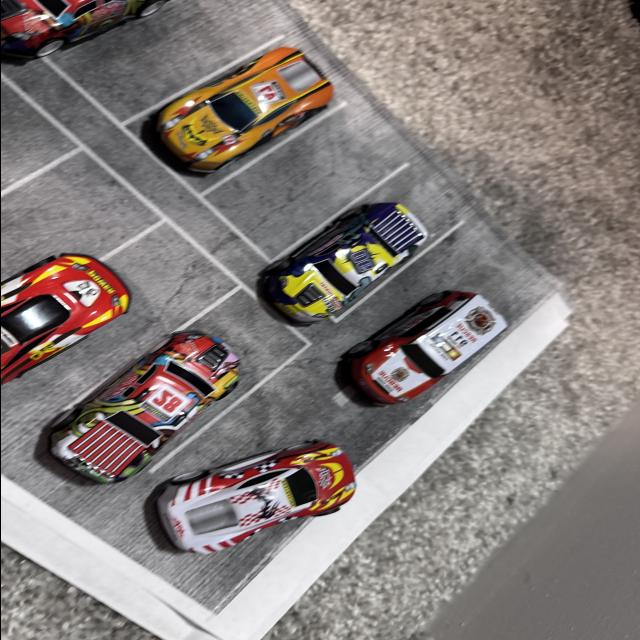Car: (44, 339, 264, 481), (0, 228, 144, 424), (109, 428, 374, 534), (136, 51, 344, 168), (241, 196, 415, 332), (352, 289, 494, 412), (0, 1, 197, 76)
